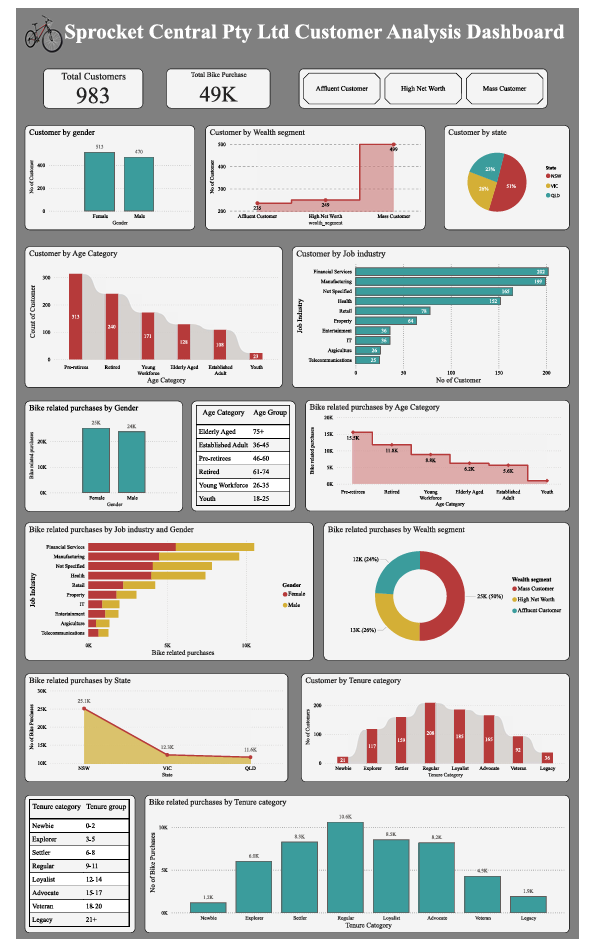

The dashboard page shown, as its layout file describes it:
{"tool":"powerbi","page":{"name":"Complete","canvas":[1300,2150],"ordinal":4},"visuals":[{"type":"pieChart","title":"Customer by state","fields":{"Y":["Count(Cleaning.Customer )"],"Category":["Cleaning.state"]},"box":[988.3,270,290,241.7],"z":0},{"type":"clusteredColumnChart","title":"Customer by gender","fields":{"Category":["Cleaning.gender"],"Y":["CountNonNull(Cleaning.Customer )","CountNonNull(Cleaning.Customer )"]},"box":[20,270,393.3,241.7],"z":1000},{"type":"ribbonChart","title":"Customer  by Age Category","fields":{"Category":["Cleaning.Age Category"],"Y":["Count(Cleaning.Customer )"]},"box":[20,550,595,326.7],"z":2000},{"type":"areaChart","title":"Customer by Wealth segment","fields":{"Category":["Cleaning.wealth_segment"],"Y":["Count(Cleaning.Customer )"]},"box":[436.7,270,508.3,241.7],"z":3000},{"type":"clusteredBarChart","title":"Customer  by Job industry","fields":{"Category":["Cleaning.job_industry_category"],"Y":["Count(Cleaning.Customer )"]},"box":[636.7,550,641.7,326.7],"z":4000},{"type":"donutChart","title":"Bike related purchases by Wealth segment","fields":{"Category":["Cleaning.wealth_segment"],"Y":["Sum(Cleaning.past_3_years_bike_related_purchases)"]},"box":[710,1188.3,568.3,318.3],"z":5000},{"type":"stackedAreaChart","title":"Bike related purchases by Age Category","fields":{"Category":["Cleaning.Age Category"],"Y":["Sum(Cleaning.past_3_years_bike_related_purchases)"]},"box":[668.3,905,610,256.7],"z":6000},{"type":"columnChart","title":"Bike related purchases by Gender","fields":{"Category":["Cleaning.gender"],"Y":["Sum(Cleaning.past_3_years_bike_related_purchases)"]},"box":[20,906.7,365,256.7],"z":7000},{"type":"barChart","title":"Bike related purchases by Job industry and Gender","fields":{"Category":["Cleaning.job_industry_category"],"Y":["Sum(Cleaning.past_3_years_bike_related_purchases)"],"Series":["Cleaning.gender"]},"box":[20,1188.3,666.7,318.3],"z":8000},{"type":"areaChart","title":"Bike related purchases by State","fields":{"Category":["Cleaning.state"],"Y":["Sum(Cleaning.past_3_years_bike_related_purchases)"]},"box":[20,1536.7,608.3,251.7],"z":9000},{"type":"clusteredColumnChart","title":"Bike related purchases by Tenure category","fields":{"Category":["Cleaning.Tenure category"],"Y":["Sum(Cleaning.past_3_years_bike_related_purchases)"]},"box":[296.7,1818.3,981.7,318.3],"z":10000},{"type":"ribbonChart","title":"Customer  by Tenure category","fields":{"Y":["Count(Cleaning.Customer )"],"Category":["Cleaning.Tenure category"]},"box":[658.3,1536.7,620,251.7],"z":11000},{"type":"tableEx","fields":{"Values":["Cleaning.Age Category","Cleaning.Age Group"]},"box":[405,906.7,240,255],"z":12000},{"type":"tableEx","fields":{"Values":["Cleaning.Tenure category","Cleaning.Tenure group"]},"box":[20,1818.3,255,318.3],"z":13000},{"type":"advancedSlicerVisual","fields":{"Values":["Cleaning.wealth_segment"]},"box":[653.3,139.3,574,92],"z":14000},{"type":"card","title":"Total Customers","fields":{"Values":["Count(Cleaning.Customer )"]},"box":[63.3,139.3,230,92],"z":15000},{"type":"card","title":"Total Bike Purchase","fields":{"Values":["Sum(Cleaning.past_3_years_bike_related_purchases)"]},"box":[347.3,139.3,240,92],"z":16000},{"type":"textbox","box":[78.3,20,1221.7,81.7],"z":17000},{"type":"image","box":[13.3,10,100,103.3],"z":18000}]}

Visuals, with their boxes in screenshot pixels (x1, y1, x2, y2):
"Customer by state" pieChart: bbox=[442, 124, 568, 229]
"Customer by gender" clusteredColumnChart: bbox=[23, 124, 193, 229]
"Customer  by Age Category" ribbonChart: bbox=[23, 245, 281, 387]
"Customer by Wealth segment" areaChart: bbox=[204, 124, 423, 229]
"Customer  by Job industry" clusteredBarChart: bbox=[290, 245, 568, 387]
"Bike related purchases by Wealth segment" donutChart: bbox=[322, 521, 568, 659]
"Bike related purchases by Age Category" stackedAreaChart: bbox=[304, 399, 568, 510]
"Bike related purchases by Gender" columnChart: bbox=[23, 400, 181, 511]
"Bike related purchases by Job industry and Gender" barChart: bbox=[23, 521, 312, 659]
"Bike related purchases by State" areaChart: bbox=[23, 672, 286, 781]
"Bike related purchases by Tenure category" clusteredColumnChart: bbox=[143, 794, 568, 932]
"Customer  by Tenure category" ribbonChart: bbox=[299, 672, 568, 781]
tableEx - Cleaning.Age Category x Cleaning.Age Group: bbox=[190, 400, 294, 510]
tableEx - Cleaning.Tenure category x Cleaning.Tenure group: bbox=[23, 794, 134, 932]
advancedSlicerVisual - Cleaning.wealth_segment: bbox=[297, 68, 546, 107]
"Total Customers" card: bbox=[42, 68, 142, 107]
"Total Bike Purchase" card: bbox=[165, 68, 269, 107]
textbox: bbox=[49, 16, 577, 51]
image: bbox=[20, 12, 64, 56]
